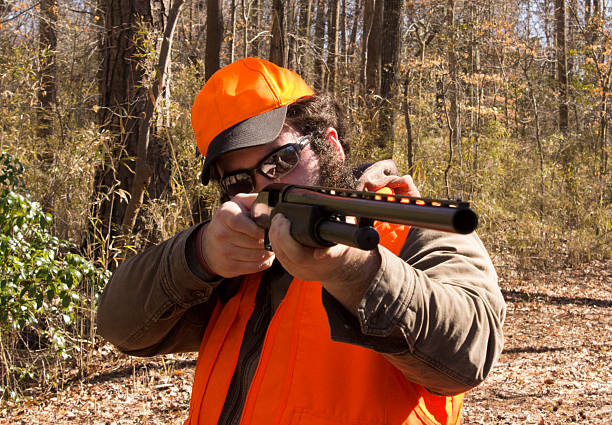gun: (250, 182, 479, 251)
